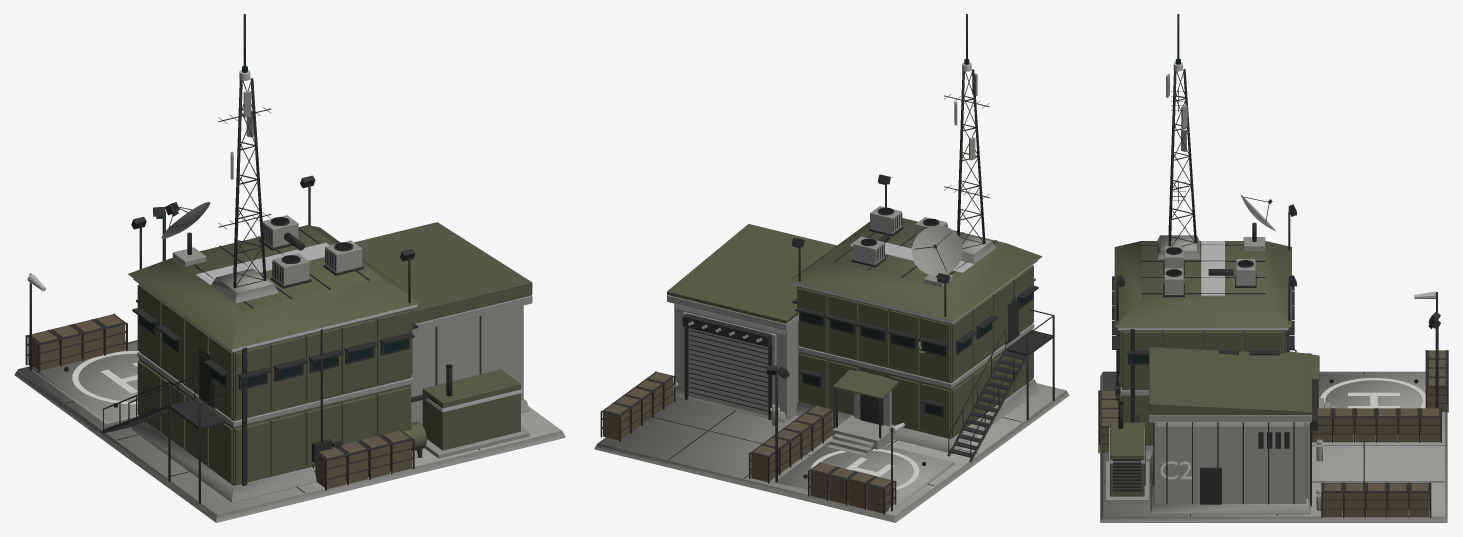
The model's file is command_post.glb.
3 renders of one model, left to right at view 1: azimuth 30°, elevation 25°; view 2: azimuth 150°, elevation 25°; view 3: azimuth 270°, elevation 25°, orthographic. The views are drawn at different scales.
Parts seen in each view (by area): view 1: Building; view 2: Building; view 3: Building.
Boxes of the visible parts, x1=… form: Building: x1=14, y1=14, x2=565, y2=522; Building: x1=594, y1=14, x2=1069, y2=522; Building: x1=1098, y1=14, x2=1448, y2=522.
Bounding box in the file's own units: 16.08 × 19.95 × 16.11.
